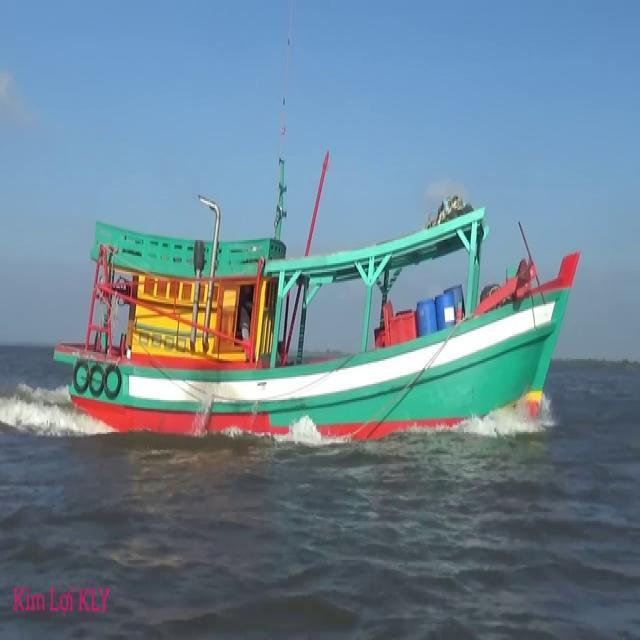Ship: (49, 190, 584, 446)
